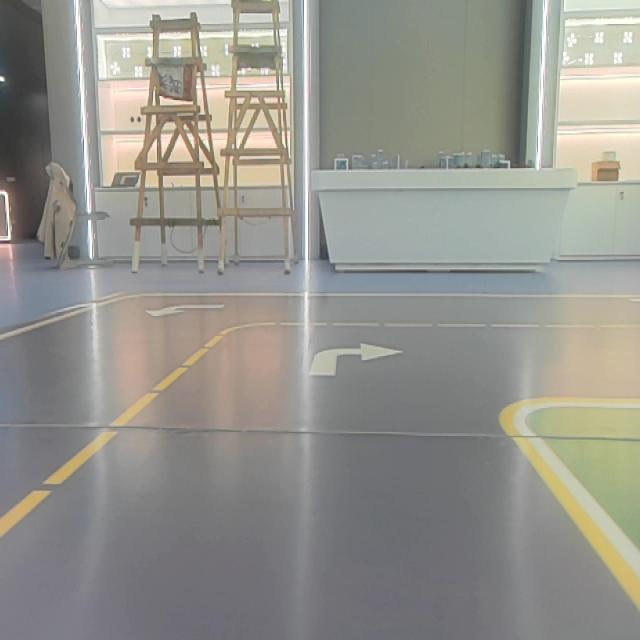left_lane: (0, 327, 218, 542)
right_lane: (497, 419, 640, 609), (1, 297, 108, 341)
